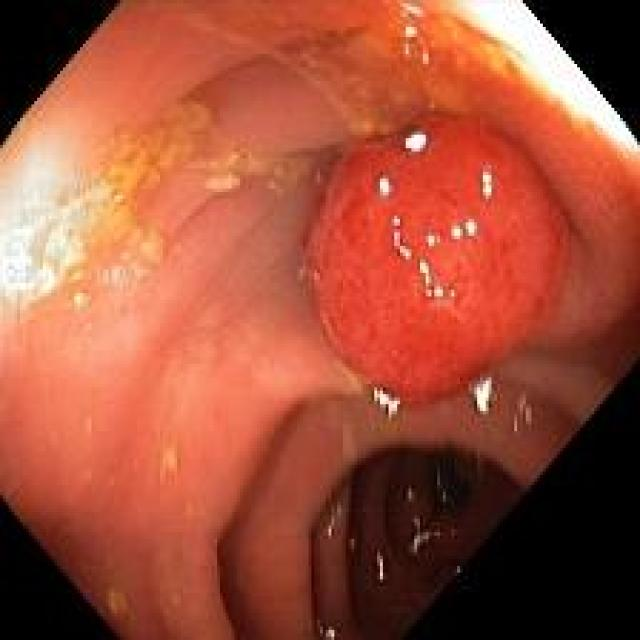Polyps: (308, 118, 566, 402)
